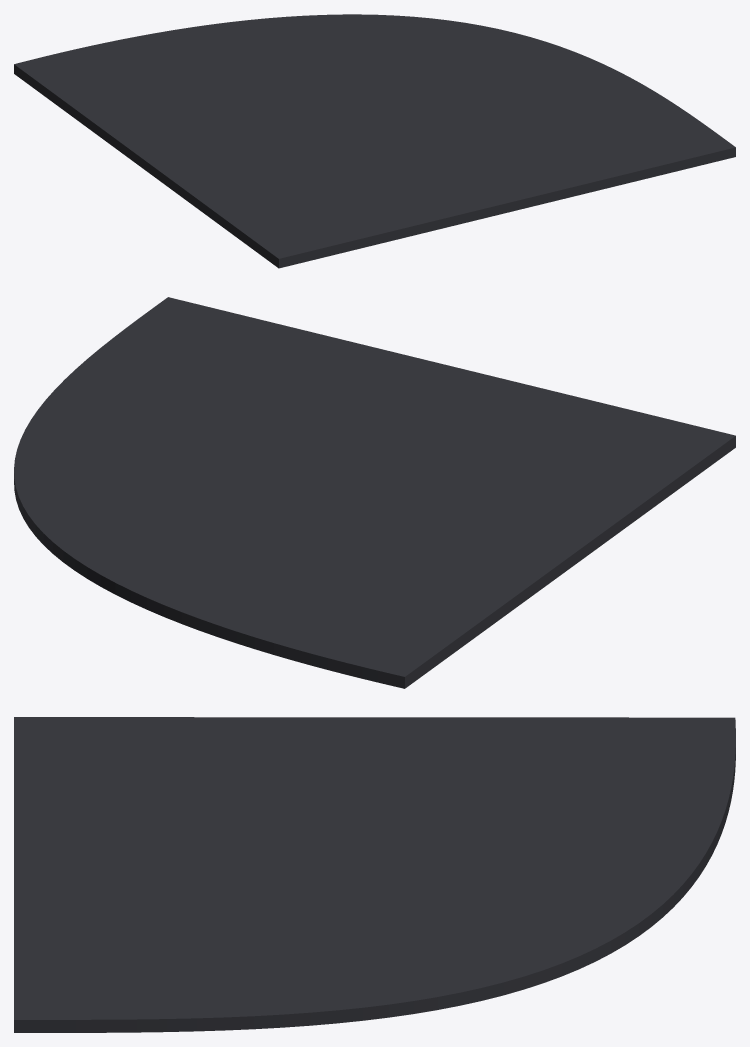
File: kavsak_02.fbx
3 renders of one model, top to bottom at view 1: azimuth 30°, elevation 25°; view 2: azimuth 150°, elevation 25°; view 3: azimuth 270°, elevation 25°, orthographic. The views are drawn at different scales.
Visible parts, largest first — view 1: NurbsPath.001; view 2: NurbsPath.001; view 3: NurbsPath.001.
Part boxes in pixels (x1,y1,x2,y2): NurbsPath.001: [14, 14, 735, 268]; NurbsPath.001: [14, 297, 735, 688]; NurbsPath.001: [14, 717, 735, 1032].
Size of the model in its own units: 396 by 7.97 by 399.
Materials: 1 (1 with a texture image).
